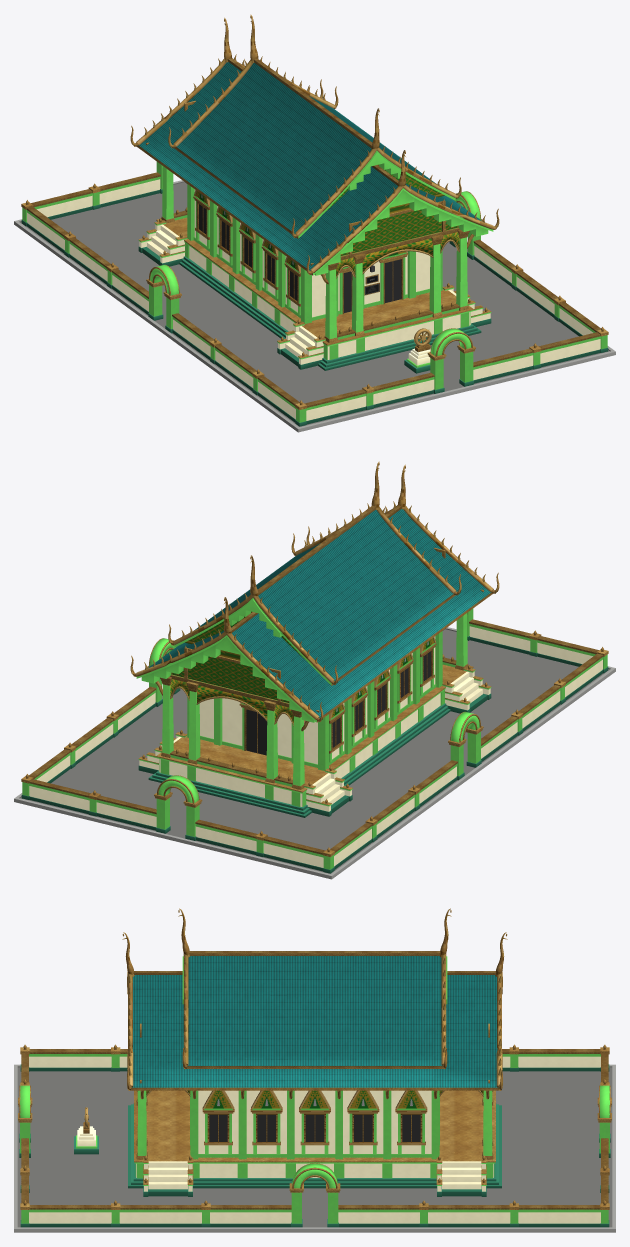
Rendered from ubosot.glb.
3 views of the same model, one above another, from view 1: azimuth 30°, elevation 25°; view 2: azimuth 150°, elevation 25°; view 3: azimuth 270°, elevation 25° (orthographic). The views are drawn at different scales.
Visible parts, largest first — view 1: Ubosot_Roof_And_Gables, Ubosot_Courtyard_Floor, Ubosot_Kampheng_Kaeo, Ubosot_Base_Plinth, Ubosot_Hall_And_Columns, Ubosot_Gold_Ornaments, Ubosot_Doors_Windows, Ubosot_Arched_Gates, Ubosot_Front_Dharmachakra; view 2: Ubosot_Roof_And_Gables, Ubosot_Courtyard_Floor, Ubosot_Kampheng_Kaeo, Ubosot_Base_Plinth, Ubosot_Hall_And_Columns, Ubosot_Gold_Ornaments, Ubosot_Doors_Windows, Ubosot_Arched_Gates; view 3: Ubosot_Roof_And_Gables, Ubosot_Courtyard_Floor, Ubosot_Kampheng_Kaeo, Ubosot_Base_Plinth, Ubosot_Hall_And_Columns, Ubosot_Doors_Windows, Ubosot_Gold_Ornaments, Ubosot_Arched_Gates, Ubosot_Front_Dharmachakra.
Boxes of the visible parts, box(x1,y1,x2,y2) form: Ubosot_Roof_And_Gables: box(136, 62, 493, 275); Ubosot_Courtyard_Floor: box(14, 180, 615, 432); Ubosot_Kampheng_Kaeo: box(21, 172, 608, 426); Ubosot_Base_Plinth: box(138, 207, 491, 370); Ubosot_Hall_And_Columns: box(161, 166, 469, 342); Ubosot_Gold_Ornaments: box(130, 14, 499, 284); Ubosot_Doors_Windows: box(193, 190, 408, 315); Ubosot_Arched_Gates: box(146, 161, 482, 393); Ubosot_Front_Dharmachakra: box(404, 328, 431, 373); Ubosot_Roof_And_Gables: box(136, 509, 493, 722); Ubosot_Courtyard_Floor: box(14, 627, 615, 879); Ubosot_Kampheng_Kaeo: box(21, 619, 608, 873); Ubosot_Base_Plinth: box(138, 654, 491, 817); Ubosot_Hall_And_Columns: box(160, 613, 468, 789); Ubosot_Gold_Ornaments: box(130, 461, 499, 731); Ubosot_Doors_Windows: box(239, 637, 436, 762); Ubosot_Arched_Gates: box(147, 608, 483, 840); Ubosot_Roof_And_Gables: box(131, 956, 498, 1090); Ubosot_Courtyard_Floor: box(14, 1064, 615, 1232); Ubosot_Kampheng_Kaeo: box(20, 1044, 609, 1227); Ubosot_Base_Plinth: box(128, 1090, 501, 1196); Ubosot_Hall_And_Columns: box(136, 1090, 493, 1159); Ubosot_Doors_Windows: box(202, 1090, 427, 1154); Ubosot_Gold_Ornaments: box(122, 908, 507, 1099); Ubosot_Arched_Gates: box(18, 1085, 611, 1227); Ubosot_Front_Dharmachakra: box(74, 1107, 98, 1154).
Size of the model in its own units: 16.76 by 11.51 by 25.96.
Materials: 10 (7 with a texture image).
